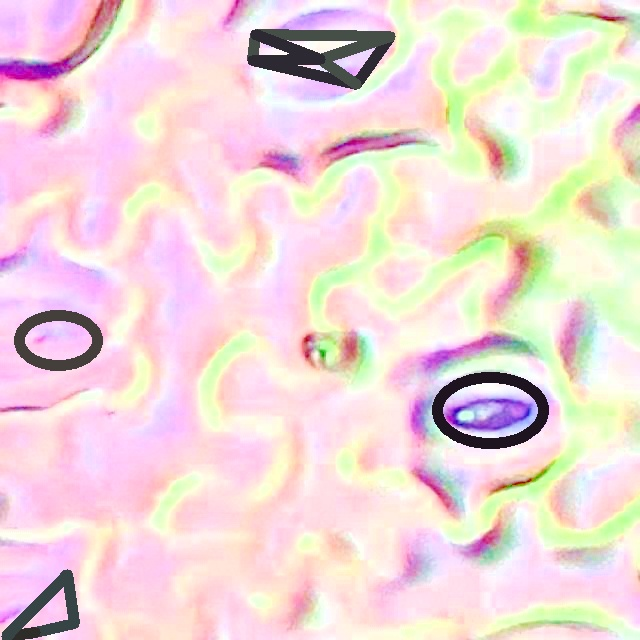open: (247, 29, 394, 89), (433, 372, 548, 447), (1, 570, 79, 637), (14, 311, 101, 369)
